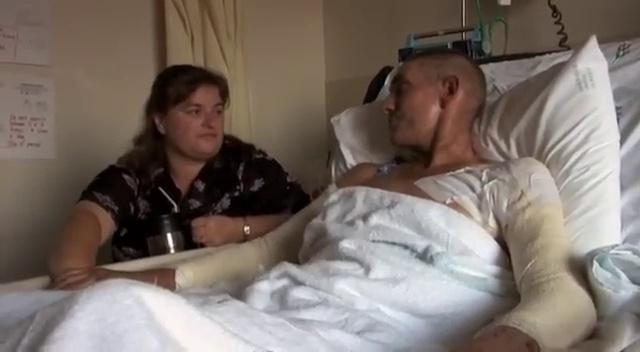others: (45, 62, 311, 291)
patient: (11, 47, 599, 351)
